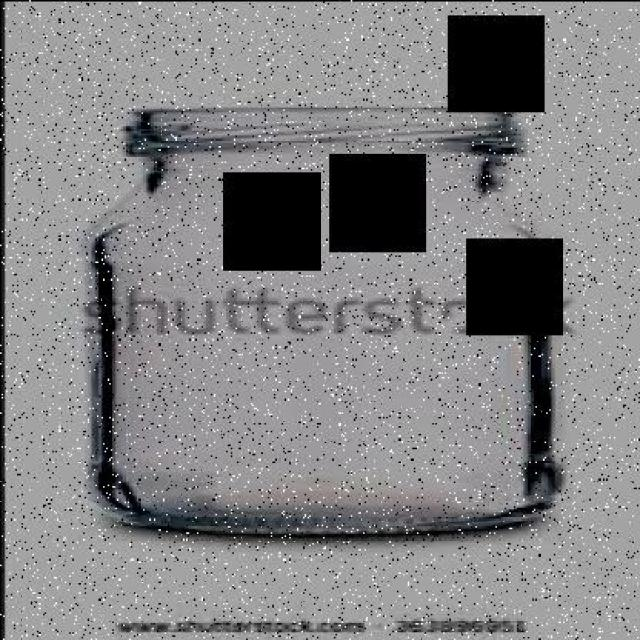glass: (83, 106, 570, 539)
